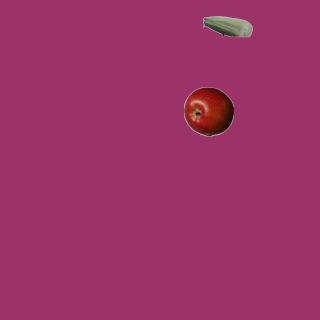Apple Braeburn: (183, 86, 233, 136)
Corn Husk: (202, 1, 252, 51)
